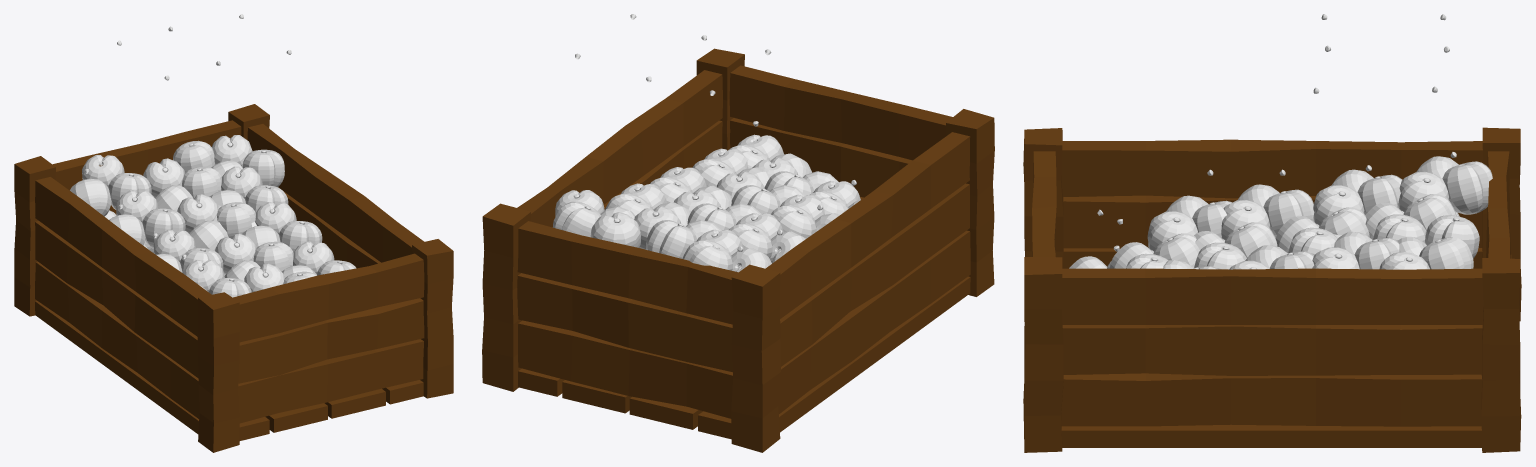
The model's file is Peacheskasse.fbx.
The picture shows the model from 3 angles, left to right: view 1: azimuth 30°, elevation 25°; view 2: azimuth 150°, elevation 25°; view 3: azimuth 270°, elevation 25°; orthographic projection. The views are drawn at different scales.
Visible parts, largest first — view 1: Cube.011, Cube.022, Cube.012, Cube.013, Cube.010, Cube.021, Cube.020, Cube.014, Cube.004, Cube.006, Cube.003, Cube.017 (+33 smaller); view 2: Cube.022, Cube.017, Cube.011, Cube.018, Cube.019, Cube.010, Cube.020, Cube.021, Cube.006, Cube.005, Cube.014, Cube.012 (+33 smaller); view 3: Cube.010, Cube.008, Cube.009, Cube.022, Cube.002, Cube.004, Cube.005, Cube.021, Cube.014, Cube.006, Cube.011, Cube.017 (+32 smaller).
Boxes of the visible parts, <box> form: Cube.011: <box>233,253,424,342</box>; Cube.022: <box>35,177,211,336</box>; Cube.012: <box>238,298,424,383</box>; Cube.013: <box>238,339,423,423</box>; Cube.010: <box>247,124,424,262</box>; Cube.021: <box>35,221,198,377</box>; Cube.020: <box>35,261,199,418</box>; Cube.014: <box>197,292,239,452</box>; Cube.004: <box>412,239,453,398</box>; Cube.006: <box>14,156,55,316</box>; Cube.003: <box>35,301,269,440</box>; Cube.017: <box>52,120,241,190</box>; Cube.022: <box>765,132,970,318</box>; Cube.017: <box>517,221,738,324</box>; Cube.011: <box>729,65,952,160</box>; Cube.018: <box>517,273,732,372</box>; Cube.019: <box>518,320,733,418</box>; Cube.010: <box>517,70,722,227</box>; Cube.020: <box>778,230,970,413</box>; Cube.021: <box>780,183,969,366</box>; Cube.006: <box>731,264,780,452</box>; Cube.005: <box>482,203,530,391</box>; Cube.014: <box>946,109,994,296</box>; Cube.012: <box>730,118,912,197</box>; Cube.010: <box>1062,268,1483,324</box>; Cube.008: <box>1061,373,1482,426</box>; Cube.009: <box>1062,325,1482,375</box>; Cube.022: <box>1061,139,1483,198</box>; Cube.002: <box>1061,424,1481,447</box>; Cube.004: <box>1023,257,1063,452</box>; Cube.005: <box>1481,258,1521,452</box>; Cube.021: <box>1063,195,1482,248</box>; Cube.014: <box>1023,128,1063,321</box>; Cube.006: <box>1482,127,1521,321</box>; Cube.011: <box>1032,151,1056,257</box>; Cube.017: <box>1487,151,1510,258</box>.
Bounding box in the file's own units: 465 × 501 × 667.
